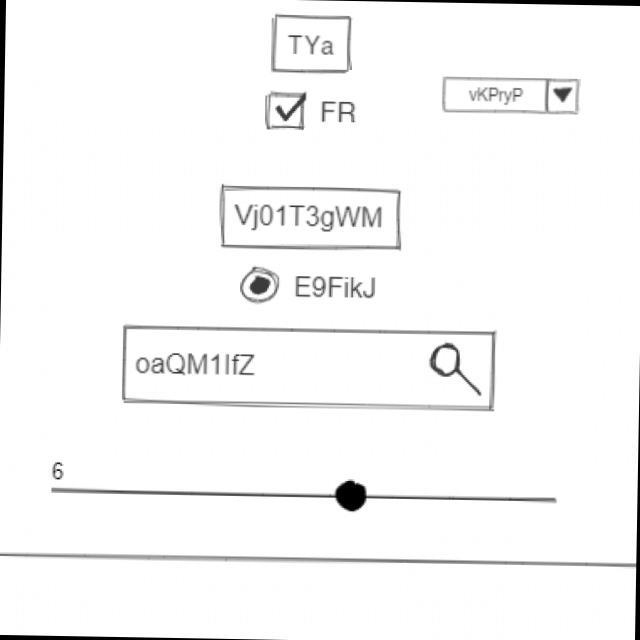button: (214, 182, 406, 253), (268, 9, 357, 77)
checkbox: (261, 90, 361, 134)
container: (0, 546, 635, 640)
radio: (237, 262, 381, 306)
search: (119, 319, 502, 414)
select: (438, 72, 583, 119)
slider: (69, 469, 562, 519)
